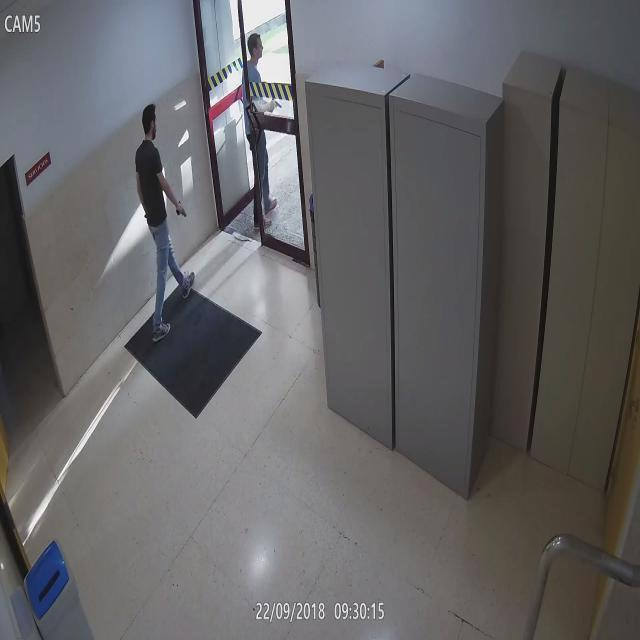weapon: (176, 202, 186, 220), (270, 102, 283, 112)
